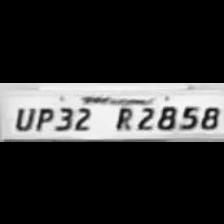2: (71, 102, 93, 131), (132, 102, 154, 130)
3: (53, 102, 73, 130)
5: (178, 102, 198, 130)
8: (154, 102, 178, 130), (197, 102, 221, 130)
P: (31, 103, 53, 130)
R: (110, 103, 134, 131)
U: (9, 103, 33, 130)
